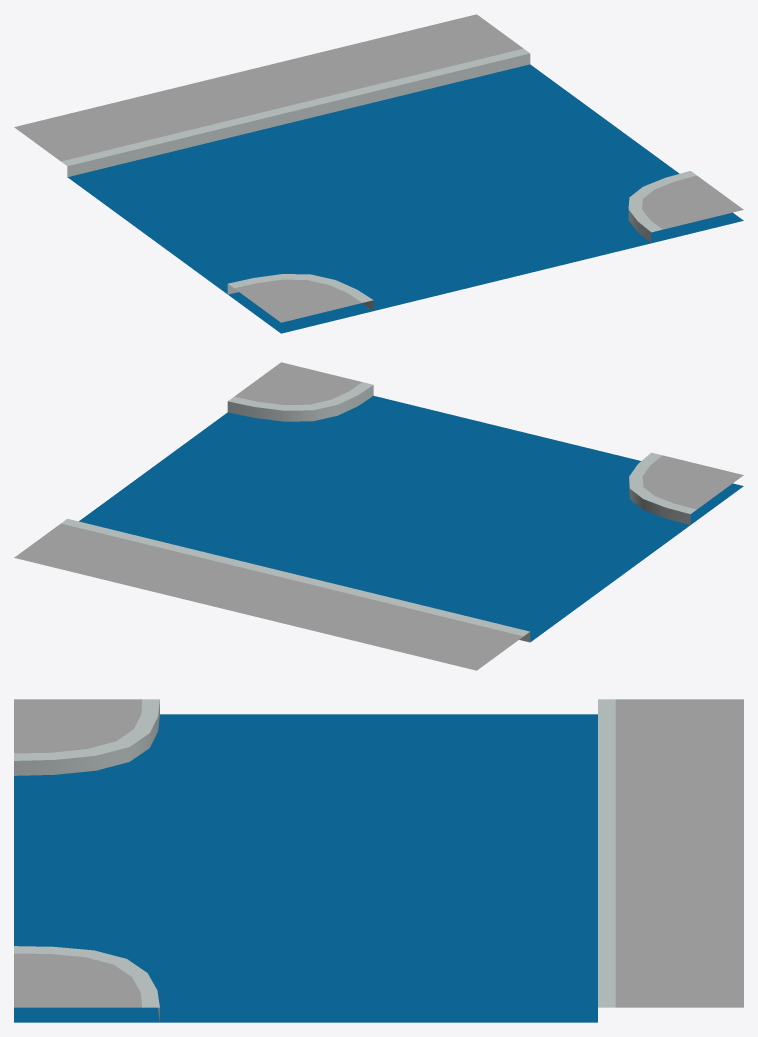
Rendered from T_Intersection_Wide.fbx.
The picture shows the model from 3 angles, top to bottom: view 1: azimuth 30°, elevation 25°; view 2: azimuth 150°, elevation 25°; view 3: azimuth 270°, elevation 25°; orthographic projection. The views are drawn at different scales.
Visible parts, largest first — view 1: T_Intersection_Wide; view 2: T_Intersection_Wide; view 3: T_Intersection_Wide.
Part boxes in pixels (x1,y1,x2,y2): T_Intersection_Wide: (14,14,743,333); T_Intersection_Wide: (14,362,743,670); T_Intersection_Wide: (14,699,743,1022).
Bounding box in the file's own units: 1000 × 22.59 × 1000.
